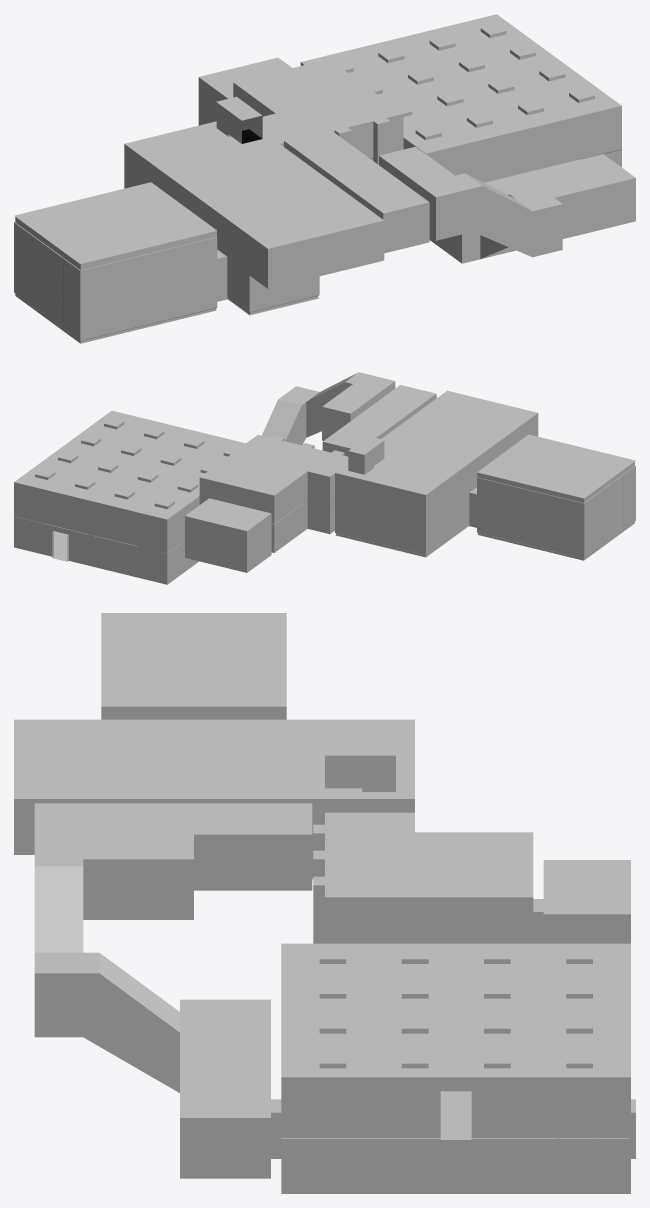
The model's file is Cont1_173.fbx.
The picture shows the model from 3 angles, top to bottom: view 1: azimuth 30°, elevation 25°; view 2: azimuth 150°, elevation 25°; view 3: azimuth 270°, elevation 25°; orthographic projection. The views are drawn at different scales.
Parts seen in each view (by area): view 1: Cont1_173_Office, Cont1_173_BeforeChamber, Cont1_173_Chamber, Cont1_173_Before173, Cont1_173_Stairwell; view 2: Cont1_173_Office, Cont1_173_BeforeChamber, Cont1_173_Chamber, Cont1_173_Before173, Cont1_173_Stairwell; view 3: Cont1_173_Office, Cont1_173_BeforeChamber, Cont1_173_Before173, Cont1_173_Stairwell, Cont1_173_Chamber.
Boxes of the visible parts, left/top/right/bottom form: Cont1_173_Office: left=300, top=14, right=635, bottom=263; Cont1_173_BeforeChamber: left=124, top=96, right=429, bottom=315; Cont1_173_Chamber: left=14, top=182, right=227, bottom=343; Cont1_173_Before173: left=198, top=57, right=403, bottom=164; Cont1_173_Stairwell: left=379, top=146, right=562, bottom=259; Cont1_173_Office: left=14, top=410, right=245, bottom=584; Cont1_173_BeforeChamber: left=322, top=385, right=538, bottom=557; Cont1_173_Chamber: left=469, top=434, right=635, bottom=560; Cont1_173_Before173: left=185, top=435, right=348, bottom=572; Cont1_173_Stairwell: left=262, top=372, right=395, bottom=445; Cont1_173_Office: left=180, top=943, right=635, bottom=1193; Cont1_173_BeforeChamber: left=14, top=719, right=414, bottom=890; Cont1_173_Before173: left=313, top=812, right=630, bottom=943; Cont1_173_Stairwell: left=34, top=834, right=193, bottom=1092; Cont1_173_Chamber: left=101, top=613, right=286, bottom=719.
Bounding box in the file's own units: 61.12 × 14 × 38.7.
